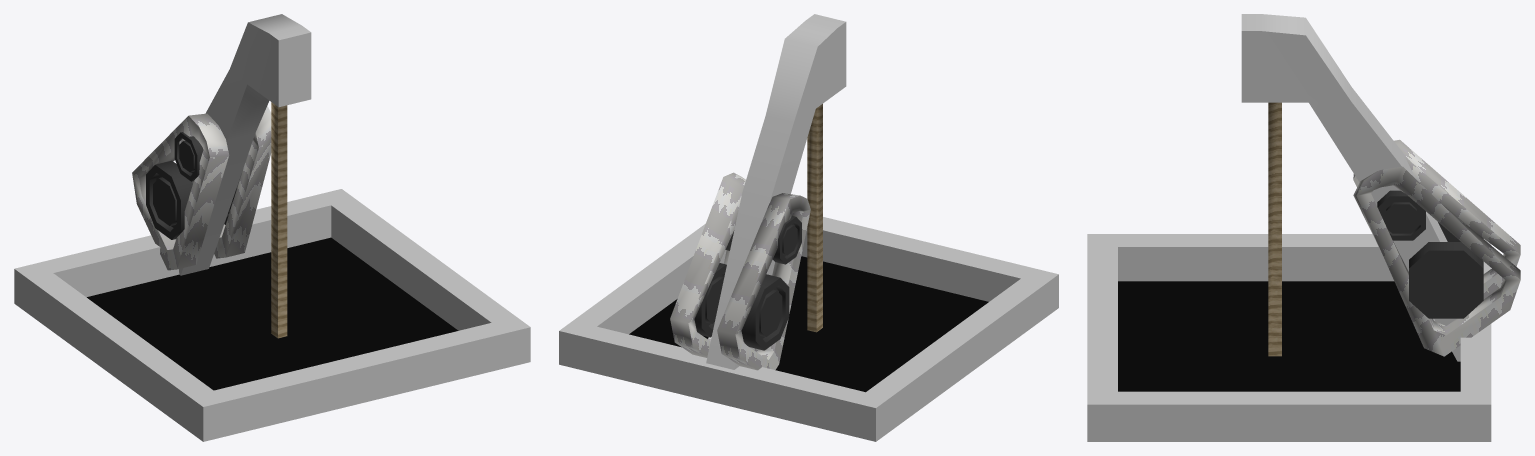
Rendered from QuarryHandHeld.fbx.
3 renders of one model, left to right at view 1: azimuth 30°, elevation 25°; view 2: azimuth 150°, elevation 25°; view 3: azimuth 270°, elevation 25°, orthographic. The views are drawn at different scales.
Parts seen in each view (by area): view 1: StoneGrinder (1), GinderWheel (1), GinderWheel (2); view 2: StoneGrinder (1), GinderWheel (1), GinderWheel (2) (×2); view 3: StoneGrinder (1), GinderWheel (2), GinderWheel (3).
Part boxes in pixels (x1,y1,x2,y2): StoneGrinder (1): (14, 14, 530, 441); GinderWheel (1): (146, 160, 192, 239); GinderWheel (2): (174, 132, 203, 181); StoneGrinder (1): (559, 14, 1058, 441); GinderWheel (1): (741, 274, 789, 350); GinderWheel (2) (×2): (694, 216, 801, 337); StoneGrinder (1): (1087, 14, 1520, 441); GinderWheel (2): (1409, 242, 1483, 318); GinderWheel (3): (1377, 190, 1425, 240).
Bounding box in the file's own units: 0.8553 × 0.8142 × 0.9173.
